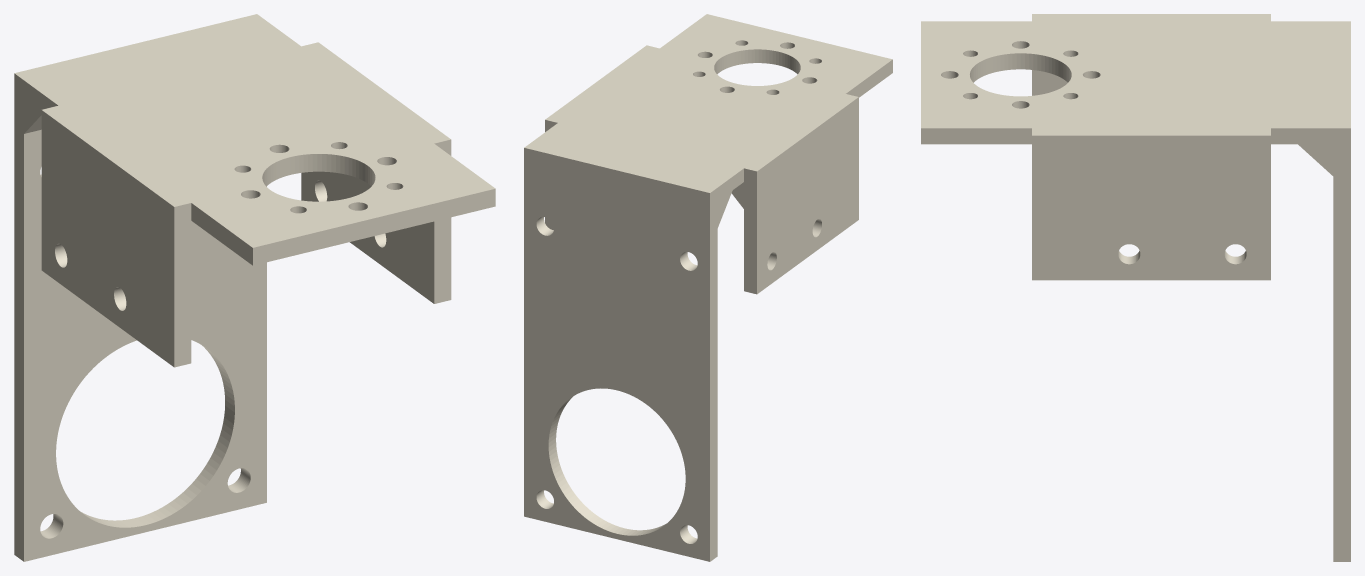
File: XL430_BRACKET.dae
3 renders of one model, left to right at view 1: azimuth 30°, elevation 25°; view 2: azimuth 150°, elevation 25°; view 3: azimuth 270°, elevation 25°, orthographic. The views are drawn at different scales.
Parts seen in each view (by area): view 1: 5abc3d48bab05811dfd1d90e; view 2: 5abc3d48bab05811dfd1d90e; view 3: 5abc3d48bab05811dfd1d90e.
Part boxes in pixels (box(x1,y1,x2,y2)): 5abc3d48bab05811dfd1d90e: box(14, 14, 495, 561); 5abc3d48bab05811dfd1d90e: box(524, 14, 892, 561); 5abc3d48bab05811dfd1d90e: box(921, 14, 1350, 561).
Bounding box in the file's own units: 0.0325 × 0.0485 × 0.054.
